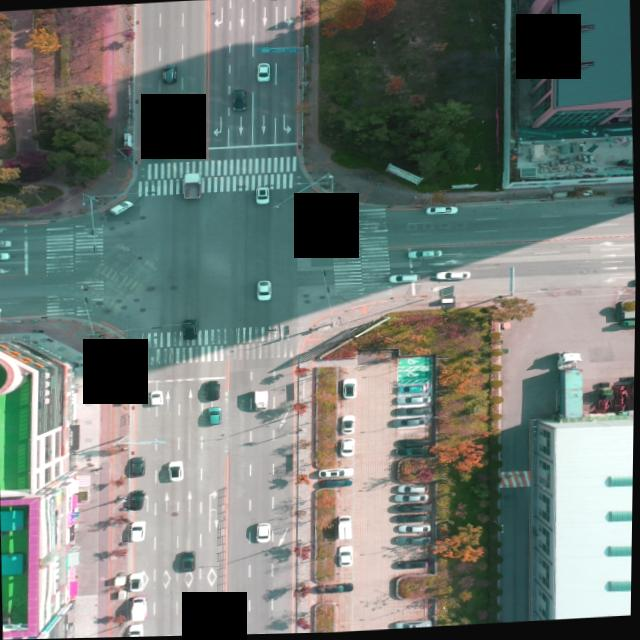car: (315, 584, 354, 596), (181, 318, 199, 342), (109, 201, 136, 217), (394, 447, 430, 459), (395, 417, 430, 429), (341, 379, 359, 400), (424, 206, 457, 217), (169, 461, 186, 482), (256, 185, 273, 206), (339, 548, 356, 569), (131, 521, 147, 543), (131, 490, 147, 512), (160, 66, 178, 85), (257, 282, 274, 302), (231, 92, 247, 113), (181, 553, 197, 574), (131, 457, 147, 478), (408, 252, 441, 262), (255, 524, 272, 543), (151, 140, 168, 159), (394, 494, 426, 504), (130, 573, 147, 591), (395, 538, 429, 547), (397, 506, 431, 515), (318, 471, 352, 480), (397, 398, 431, 407), (396, 440, 430, 449), (397, 622, 435, 630), (397, 485, 427, 495), (438, 273, 471, 282), (395, 515, 428, 524), (340, 441, 357, 458), (256, 65, 272, 83), (323, 480, 355, 489), (396, 561, 428, 570), (206, 381, 221, 400), (232, 612, 247, 631), (389, 275, 417, 285), (398, 385, 426, 395), (208, 409, 223, 427), (398, 525, 428, 534), (342, 417, 357, 435), (129, 624, 146, 638), (613, 197, 634, 207), (150, 392, 163, 407), (0, 252, 10, 261), (0, 238, 10, 247)
large_truck: (557, 352, 586, 424)
medium_truck: (179, 172, 202, 202)
small_truck: (131, 596, 149, 621), (337, 516, 354, 542), (255, 390, 272, 411)
